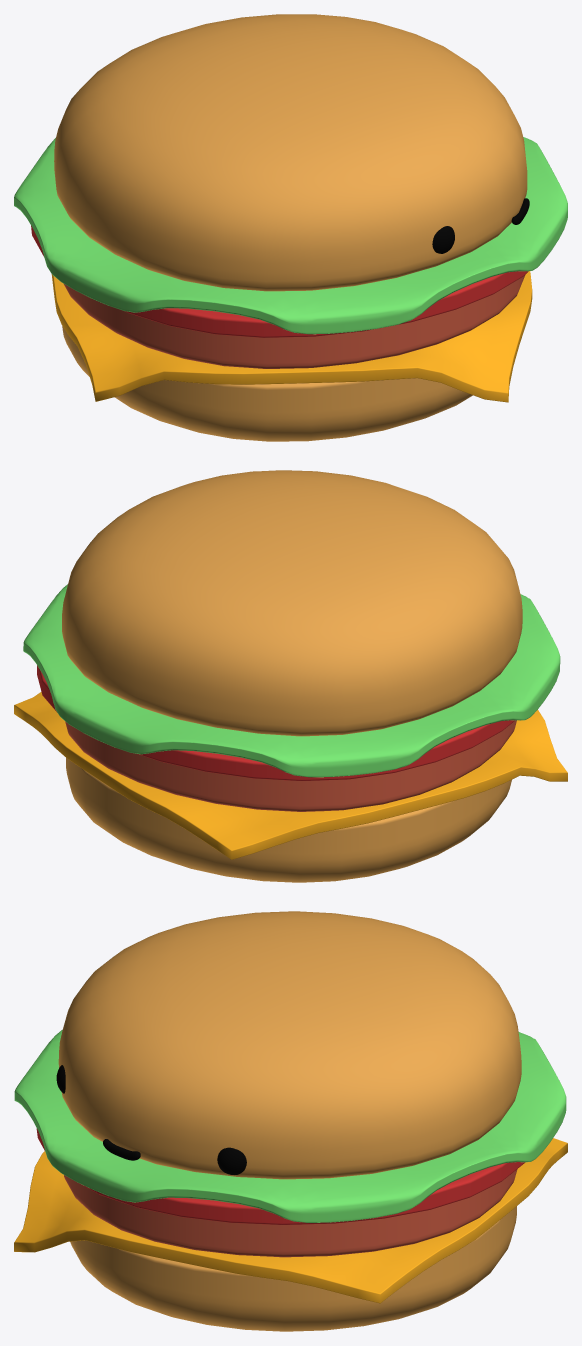
File: burger.gltf
3 renders of one model, top to bottom at view 1: azimuth 30°, elevation 25°; view 2: azimuth 150°, elevation 25°; view 3: azimuth 270°, elevation 25°, orthographic. The views are drawn at different scales.
Parts seen in each view (by area): view 1: Cube_2.001, Cylinder_3, Plane_5, Cube.003_6, Cube.001_4, Cube.001_4.001; view 2: Cube_2.001, Cylinder_3, Cube.003_6, Plane_5, Cube.001_4, Cube.001_4.001; view 3: Cube_2.001, Cylinder_3, Cube.003_6, Plane_5, Cube.001_4, Cube.001_4.001, Cube.004_8.
Boxes of the visible parts, x1,y1,x2,y2 form: Cube_2.001: (54,14,527,291); Cylinder_3: (14,137,567,334); Plane_5: (51,271,532,402); Cube.003_6: (62,326,472,441); Cube.001_4: (64,275,525,368); Cube.001_4.001: (31,225,528,337); Cube_2.001: (62,470,522,736); Cylinder_3: (23,584,560,777); Cube.003_6: (66,758,511,882); Plane_5: (14,692,567,859); Cube.001_4: (65,720,516,811); Cube.001_4.001: (37,665,514,780); Cube_2.001: (58,911,521,1179); Cylinder_3: (14,1030,566,1222); Cube.003_6: (70,1206,516,1331); Plane_5: (14,1138,567,1303); Cube.001_4: (64,1169,517,1257); Cube.001_4.001: (36,1128,525,1224); Cube.004_8: (217,1147,246,1174).
Size of the model in its own units: 3.38 by 2.09 by 3.38.
